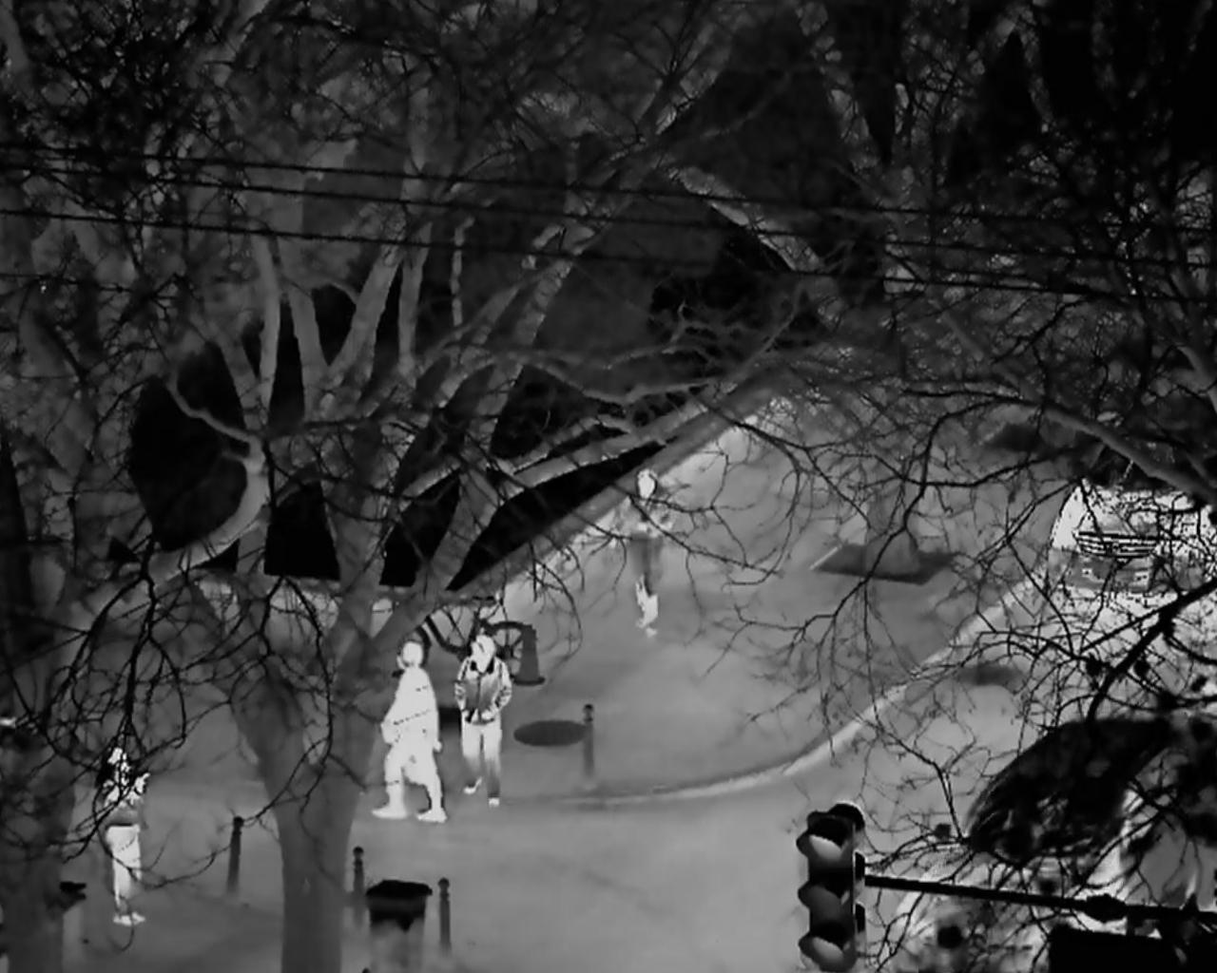person: (370, 640, 448, 824), (610, 468, 677, 639), (453, 633, 513, 809), (99, 747, 150, 925)
